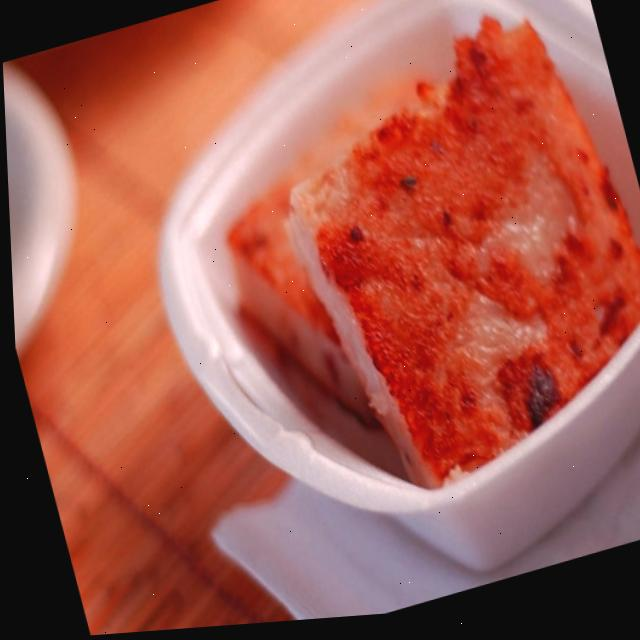蛋糕甜品: (98, 0, 640, 634)
